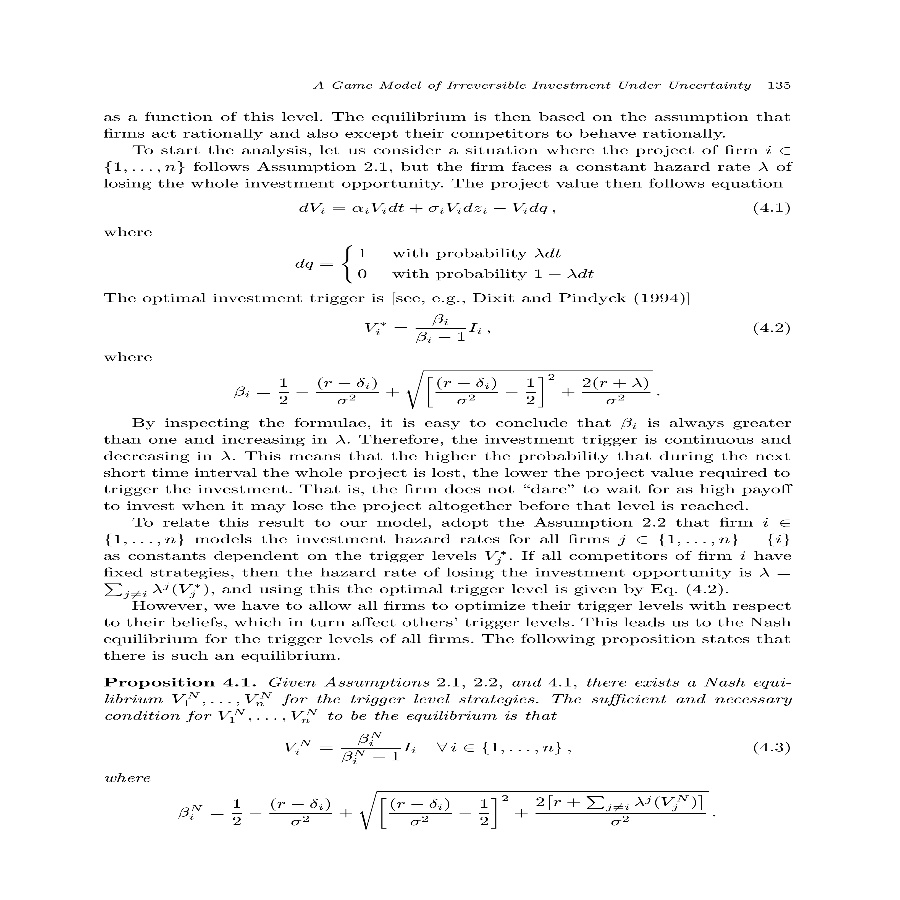eq: (178, 786, 711, 832), (234, 364, 655, 413), (293, 241, 595, 288), (281, 728, 565, 765), (294, 198, 551, 219), (361, 312, 482, 346)
